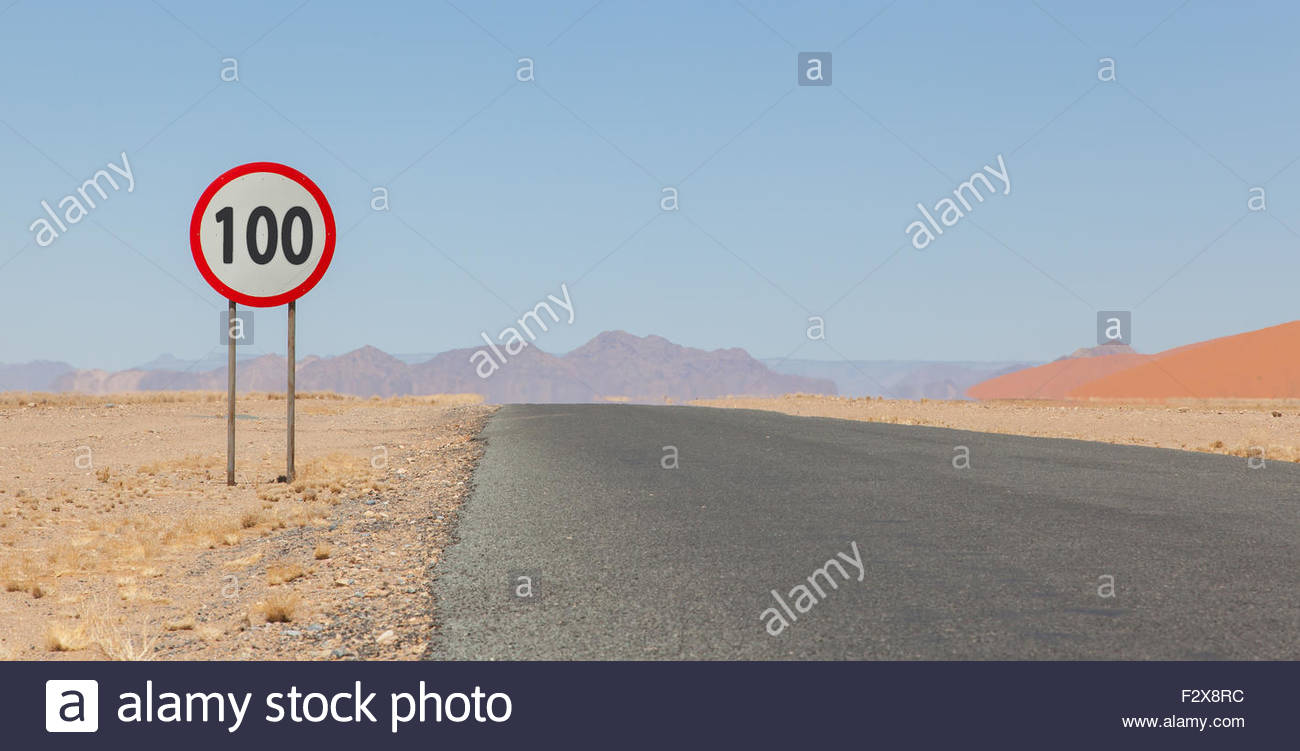Speed_limit_100km: (190, 162, 338, 308)
